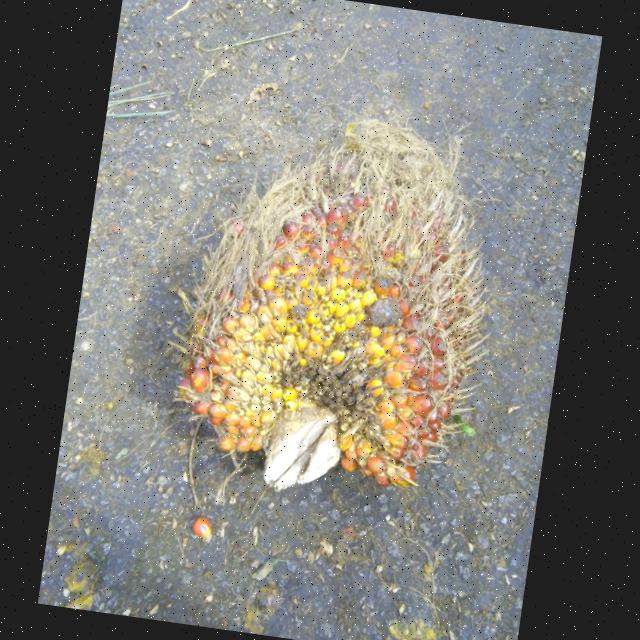Ripe: (179, 143, 475, 495)
